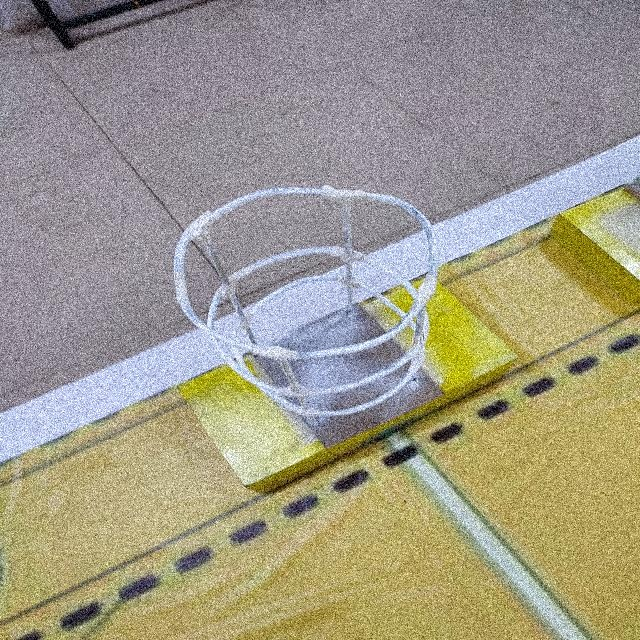silo: (159, 168, 459, 456)
